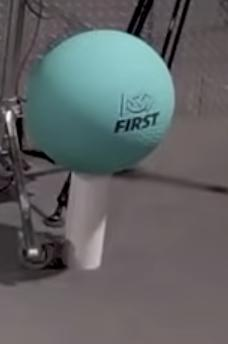algae: (27, 29, 175, 174)
coral: (62, 171, 111, 271)
